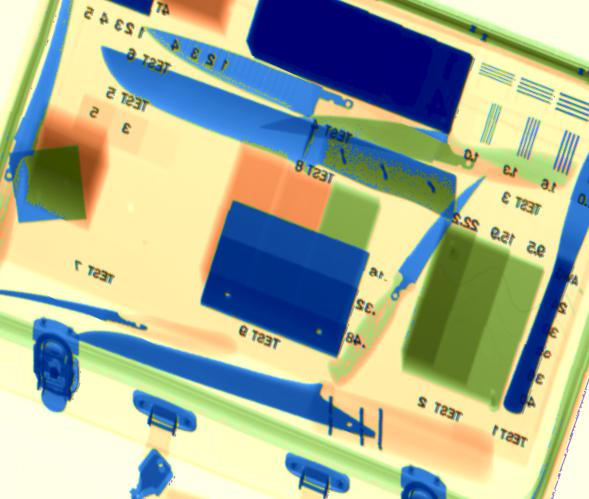Knife: (96, 44, 458, 222), (71, 330, 394, 460), (503, 151, 588, 417), (144, 26, 363, 120), (260, 114, 513, 179), (379, 173, 491, 316), (1, 1, 74, 185), (1, 289, 171, 331)
